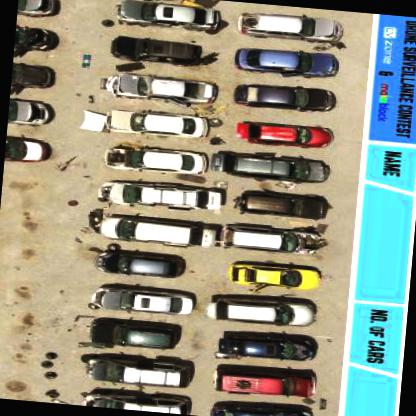car: (113, 214, 324, 256), (230, 46, 339, 115), (100, 180, 224, 214), (107, 72, 220, 108), (207, 294, 317, 329), (212, 364, 316, 400), (237, 10, 343, 45), (235, 45, 338, 80), (234, 81, 336, 114), (216, 225, 324, 256), (89, 285, 192, 317), (214, 335, 316, 366), (226, 261, 320, 294), (92, 250, 186, 282), (110, 36, 206, 67), (126, 110, 208, 140), (206, 401, 314, 415), (5, 134, 50, 167), (8, 98, 53, 128)
